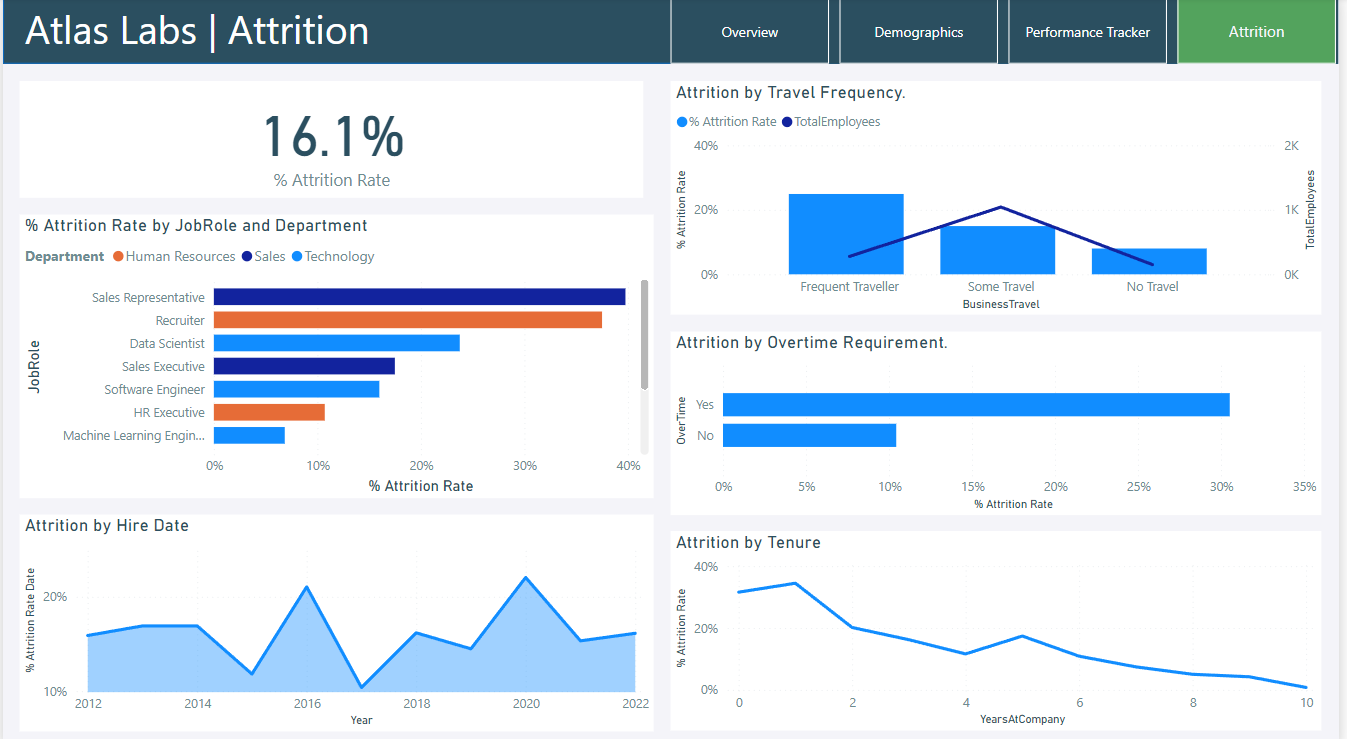

The page's visual inventory and layout, read from the dashboard file:
{"tool":"powerbi","page":{"name":"Attrition","canvas":[1280,720],"ordinal":3},"visuals":[{"type":"card","fields":{"Values":["_Measures.% Attrition Rate"]},"box":[16,80,598,112],"z":0},{"type":"barChart","fields":{"Category":["DimEmployee.JobRole"],"Y":["_Measures.% Attrition Rate"],"Series":["DimEmployee.Department"]},"box":[16,208,608,272],"z":1000},{"type":"areaChart","title":"Attrition by Hire Date","fields":{"Category":["DimDate.Date.Variation.Date Hierarchy.Year","DimDate.Date.Variation.Date Hierarchy.Quarter","DimDate.Date.Variation.Date Hierarchy.Month","DimDate.Date.Variation.Date Hierarchy.Day"],"Y":["_Measures.% Attrition Rate Date"]},"box":[16,496,608,208],"z":2000},{"type":"lineClusteredColumnComboChart","title":"Attrition by Travel Frequency.","fields":{"Category":["DimEmployee.BusinessTravel"],"Y":["_Measures.% Attrition Rate"],"Y2":["_Measures.TotalEmployees"]},"box":[640,80,624,224],"z":3000},{"type":"barChart","title":"Attrition by Overtime Requirement.","fields":{"Category":["DimEmployee.OverTime"],"Y":["_Measures.% Attrition Rate"]},"box":[640,320,624,176],"z":4000},{"type":"lineChart","title":"Attrition by Tenure","fields":{"Y":["_Measures.% Attrition Rate"],"Category":["DimEmployee.YearsAtCompany"]},"box":[640,512,624,191],"z":5000},{"type":"shape","box":[0,0,1280,64],"z":6000},{"type":"textbox","box":[16,0,448,64],"z":7000},{"type":"pageNavigator","box":[640,0,640,64],"z":8000}]}

Visuals, with their boxes in screenshot pixels (x1, y1, x2, y2), scaled from the page's 1280x720 canvas onto the 1347x739 screenshot:
card - _Measures.% Attrition Rate: Rect(17, 82, 646, 197)
barChart - DimEmployee.JobRole x _Measures.% Attrition Rate: Rect(17, 213, 657, 493)
"Attrition by Hire Date" areaChart: Rect(17, 509, 657, 723)
"Attrition by Travel Frequency." lineClusteredColumnComboChart: Rect(674, 82, 1330, 312)
"Attrition by Overtime Requirement." barChart: Rect(674, 328, 1330, 509)
"Attrition by Tenure" lineChart: Rect(674, 526, 1330, 722)
shape: Rect(0, 0, 1346, 66)
textbox: Rect(17, 0, 488, 66)
pageNavigator: Rect(674, 0, 1346, 66)
